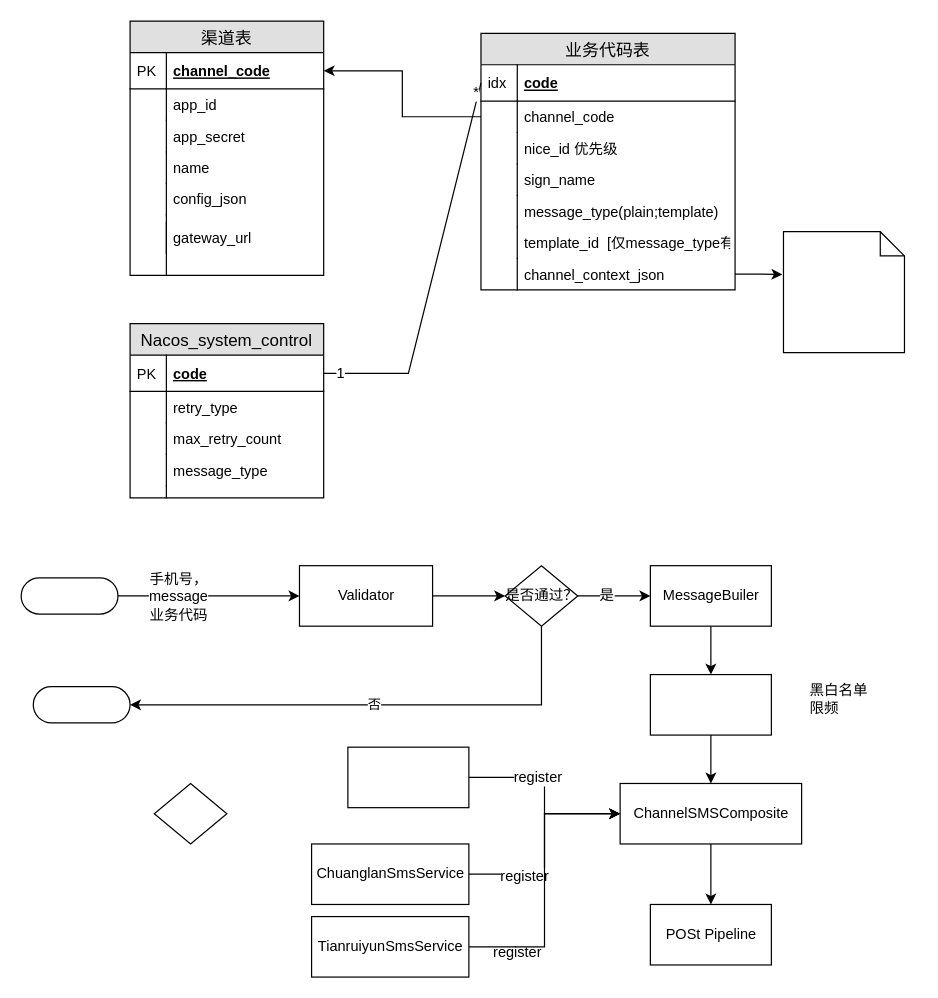
Some shapes in this 938 by 998 pixel diagram are drawn without their labels. The shapes that lost their labels are listed below. From the top down, each one's centre as x and y in pixels, then its label:
At pixel 843 292: "json格式串； 各个渠道 默认上下文参数".
At pixel 69 595: "接收请求".
At pixel 81 704: "结束".
At pixel 710 704: "Pre Pipeline".
At pixel 408 777: "AliyunSmsService".
